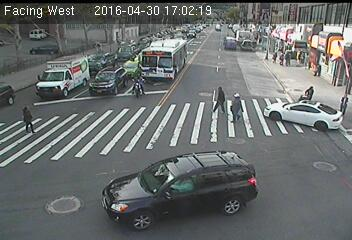neg: (304, 154, 331, 190), (47, 63, 74, 98), (161, 29, 179, 54), (128, 72, 146, 96), (243, 29, 260, 51), (308, 24, 325, 46), (323, 58, 336, 76)
pos: (225, 87, 253, 124), (205, 77, 231, 112), (17, 101, 42, 135), (329, 88, 350, 115), (300, 78, 320, 105), (269, 48, 282, 66), (280, 47, 293, 65), (310, 60, 322, 76)
